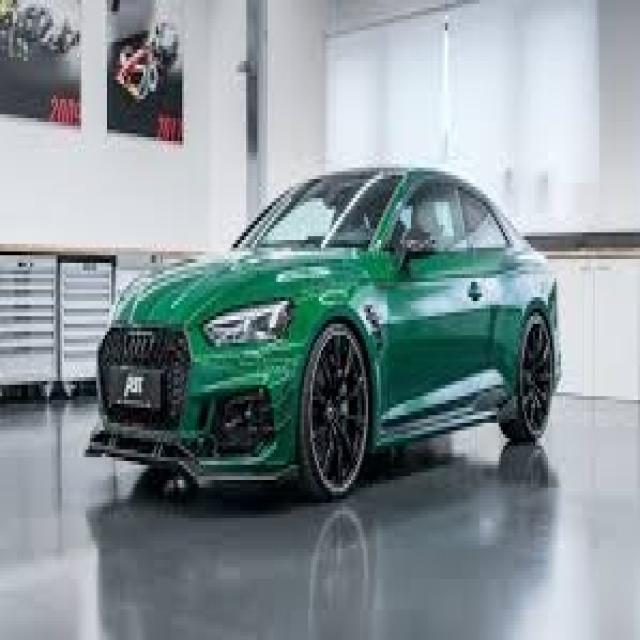green: (90, 141, 557, 487)
